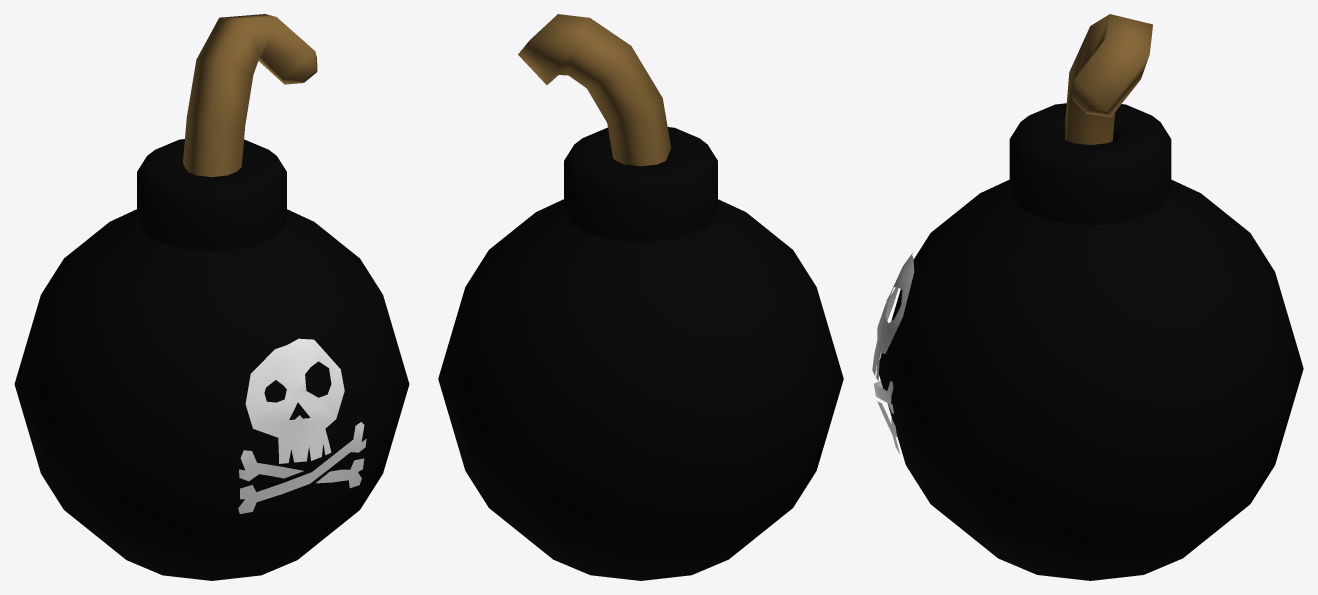
Rendered from SM_Bomb_01.fbx.
3 renders of one model, left to right at view 1: azimuth 30°, elevation 25°; view 2: azimuth 150°, elevation 25°; view 3: azimuth 270°, elevation 25°, orthographic. The views are drawn at different scales.
Visible parts, largest first — view 1: Plane.001; view 2: Plane.001; view 3: Plane.001.
Part boxes in pixels (box(x1,y1,x2,y2)): Plane.001: box(14, 14, 409, 580); Plane.001: box(438, 14, 843, 580); Plane.001: box(872, 14, 1303, 580).
Bounding box in the file's own units: 20 × 19.76 × 29.11.
